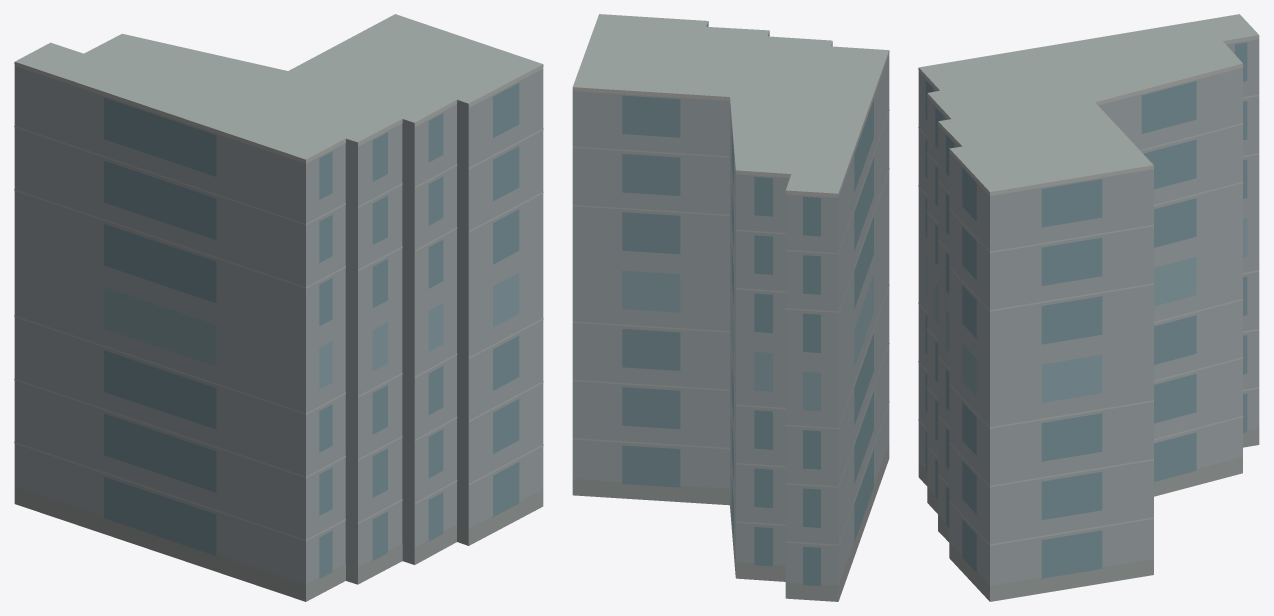
Rendered from survey-upis-32576373.glb.
3 views of the same model, side by side, from view 1: azimuth 30°, elevation 25°; view 2: azimuth 150°, elevation 25°; view 3: azimuth 270°, elevation 25° (orthographic). The views are drawn at different scales.
Parts seen in each view (by area): view 1: survey-upis-32576373.tmp; view 2: survey-upis-32576373.tmp; view 3: survey-upis-32576373.tmp.
Boxes of the visible parts, x1,y1,x2,y2 form: survey-upis-32576373.tmp: (14, 14, 543, 601); survey-upis-32576373.tmp: (572, 14, 889, 601); survey-upis-32576373.tmp: (918, 14, 1259, 601).
Bounding box in the file's own units: 23.57 × 25.25 × 19.05.
